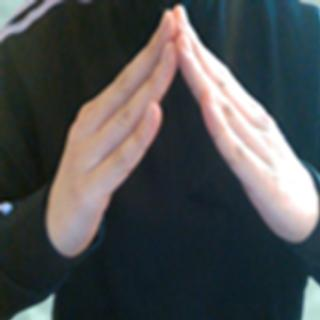HOME: (47, 1, 317, 255)
